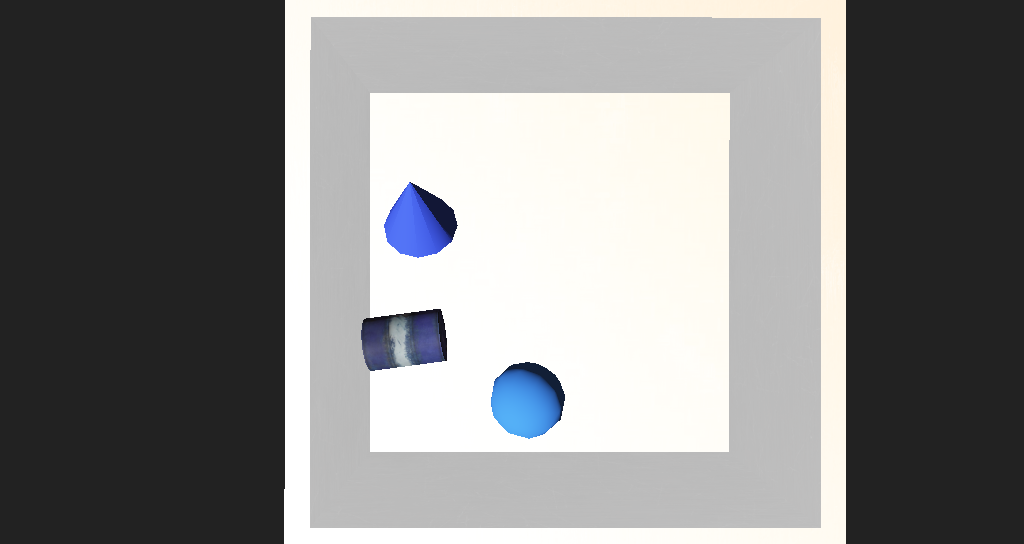cone: (347, 289, 421, 332)
cylinder: (354, 198, 428, 260)
sphere: (451, 322, 519, 365)
